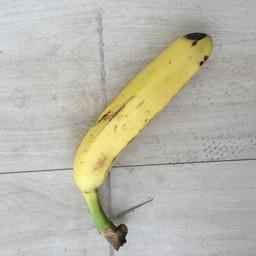Banana Ripe: (58, 25, 228, 256)
